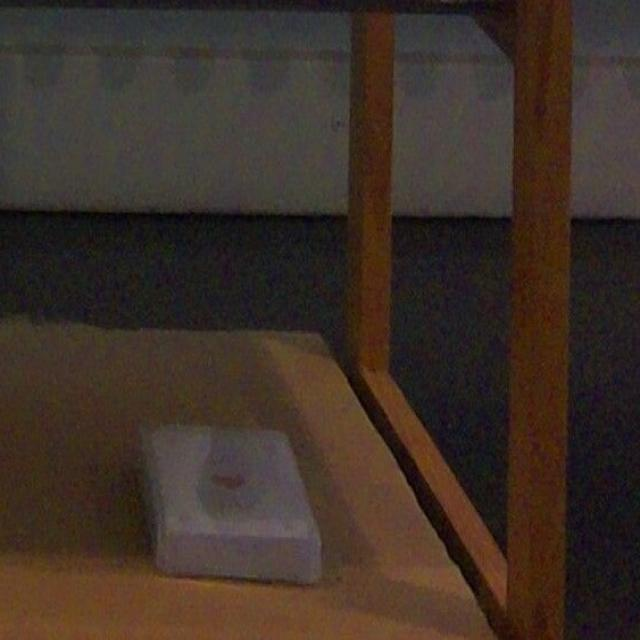Jasskarte: (141, 425, 321, 584)
